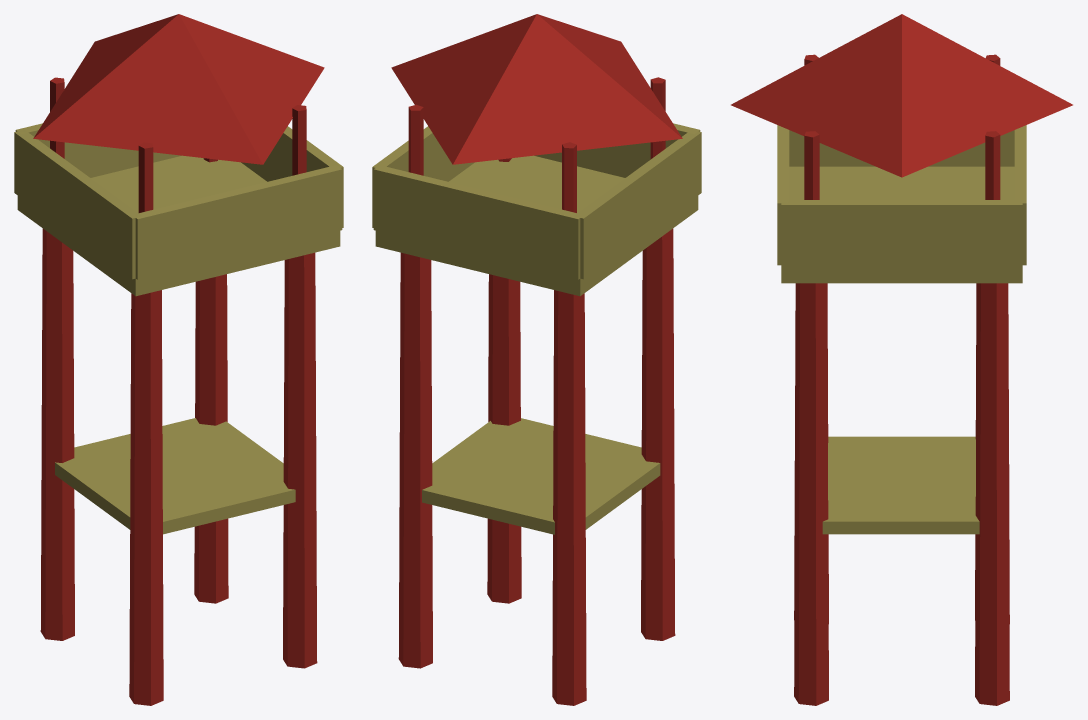
Rendered from macaque_tower_broken.glb.
3 renders of one model, left to right at view 1: azimuth 30°, elevation 25°; view 2: azimuth 150°, elevation 25°; view 3: azimuth 270°, elevation 25°, orthographic. The views are drawn at different scales.
Parts seen in each view (by area): view 1: macaque_tower_piece4, macaque_tower_piece1, macaque_tower_piece2, macaque_tower_piece3, macaque_tower_piece7, macaque_tower_piece8, macaque_tower_piece9, macaque_tower_piece10, macaque_tower_piece11, macaque_tower_piece5, macaque_tower_piece0, macaque_tower_piece12 (+1 smaller); view 2: macaque_tower_piece8, macaque_tower_piece1, macaque_tower_piece4, macaque_tower_piece6, macaque_tower_piece3, macaque_tower_piece2, macaque_tower_piece5, macaque_tower_piece0, macaque_tower_piece7, macaque_tower_piece10, macaque_tower_piece11, macaque_tower_piece9; view 3: macaque_tower_piece7, macaque_tower_piece2, macaque_tower_piece6, macaque_tower_piece4, macaque_tower_piece5, macaque_tower_piece0, macaque_tower_piece1, macaque_tower_piece12, macaque_tower_piece8, macaque_tower_piece10, macaque_tower_piece3, macaque_tower_piece11 (+1 smaller).
Part boxes in pixels (box(x1,y1,x2,y2)): macaque_tower_piece4: box(33, 44, 341, 372); macaque_tower_piece1: box(76, 207, 204, 704); macaque_tower_piece2: box(107, 339, 316, 630); macaque_tower_piece3: box(14, 167, 102, 610); macaque_tower_piece7: box(179, 20, 343, 236); macaque_tower_piece8: box(14, 22, 191, 202); macaque_tower_piece9: box(139, 488, 317, 705); macaque_tower_piece10: box(14, 99, 71, 289); macaque_tower_piece11: box(40, 423, 207, 640); macaque_tower_piece5: box(174, 280, 214, 599); macaque_tower_piece0: box(113, 14, 261, 200); macaque_tower_piece12: box(202, 161, 254, 429); macaque_tower_piece8: box(463, 58, 618, 288); macaque_tower_piece1: box(585, 126, 701, 640); macaque_tower_piece4: box(501, 23, 686, 293); macaque_tower_piece6: box(372, 82, 476, 358); macaque_tower_piece3: box(515, 235, 605, 684); macaque_tower_piece2: box(432, 274, 553, 595); macaque_tower_piece5: box(398, 337, 444, 668); macaque_tower_piece0: box(392, 14, 571, 196); macaque_tower_piece7: box(391, 16, 566, 193); macaque_tower_piece10: box(579, 117, 661, 327); macaque_tower_piece11: box(430, 482, 586, 705); macaque_tower_piece9: box(488, 434, 644, 637); macaque_tower_piece7: box(777, 22, 955, 292); macaque_tower_piece2: box(794, 364, 987, 705); macaque_tower_piece6: box(963, 81, 1072, 400); macaque_tower_piece4: box(731, 43, 947, 395); macaque_tower_piece5: box(981, 379, 1009, 705); macaque_tower_piece0: box(887, 14, 982, 269); macaque_tower_piece1: box(789, 130, 945, 623); macaque_tower_piece12: box(929, 204, 985, 586); macaque_tower_piece8: box(944, 41, 1027, 199); macaque_tower_piece10: box(929, 130, 1014, 192); macaque_tower_piece3: box(937, 147, 1014, 571); macaque_tower_piece11: box(943, 448, 1009, 623).
Bounding box in the file's own units: 1.71 × 3.55 × 1.71.
